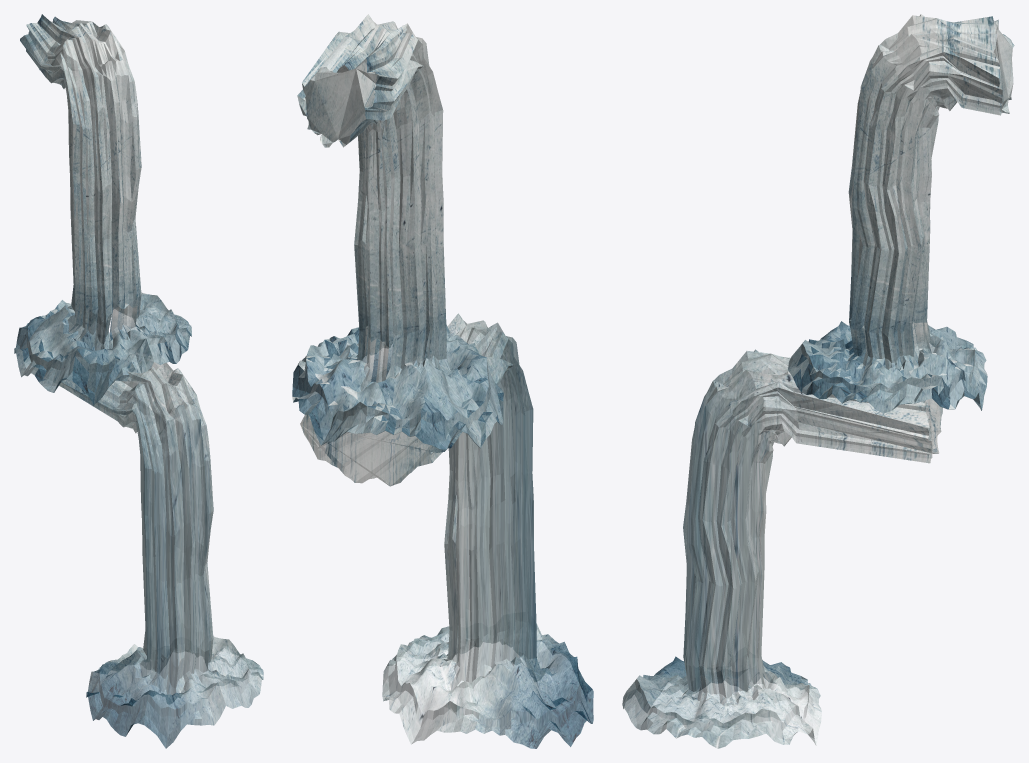
File: is_vannfoss.FBX
3 views of the same model, side by side, from view 1: azimuth 30°, elevation 25°; view 2: azimuth 150°, elevation 25°; view 3: azimuth 270°, elevation 25° (orthographic). The views are drawn at different scales.
Parts seen in each view (by area): view 1: RingWave002, RingWave001, icepart; view 2: RingWave001, RingWave002, icepart; view 3: RingWave002, RingWave001, icepart.
Boxes of the visible parts, box(x1,y1,x2,y2) form: RingWave002: box(59, 330, 263, 748); RingWave001: box(14, 14, 191, 404); icepart: box(109, 303, 140, 340); RingWave001: box(292, 14, 503, 449); RingWave002: box(300, 313, 593, 748); icepart: box(361, 326, 393, 382); RingWave002: box(622, 342, 942, 748); RingWave001: box(788, 14, 1014, 413); icepart: box(845, 318, 935, 364).
Bounding box in the file's own units: 206 × 821 × 407.
Materials: 1 (1 with a texture image).
